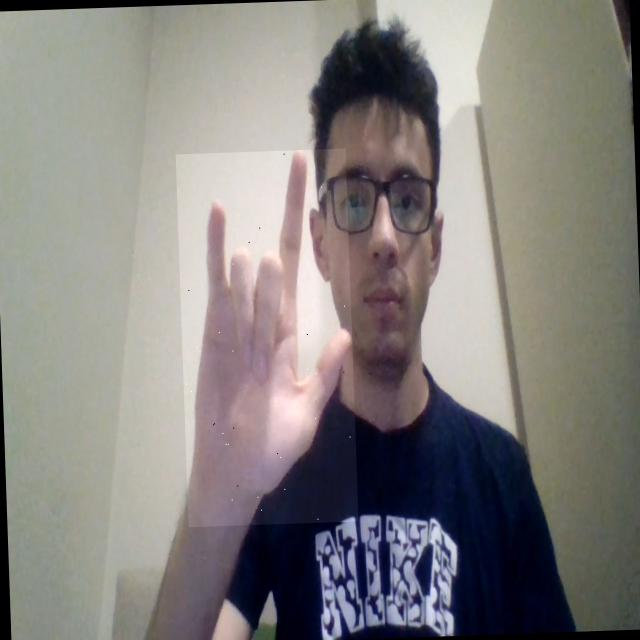iloveyou: (175, 148, 358, 528)
